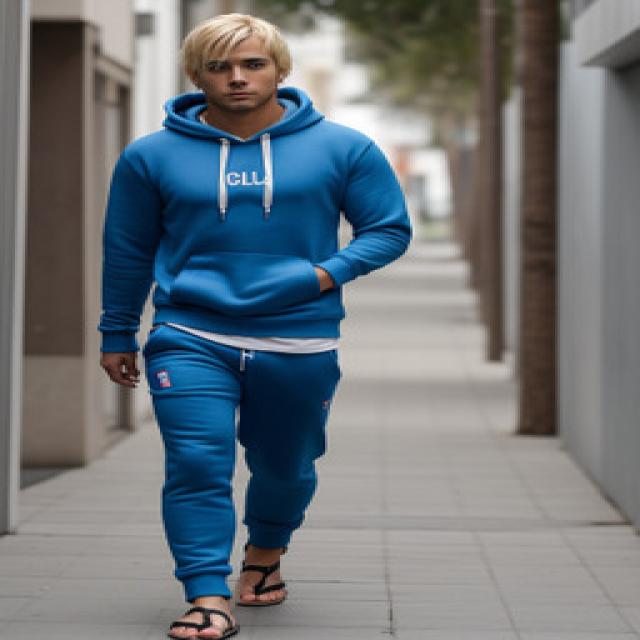Ai human 2: (94, 6, 424, 640)
